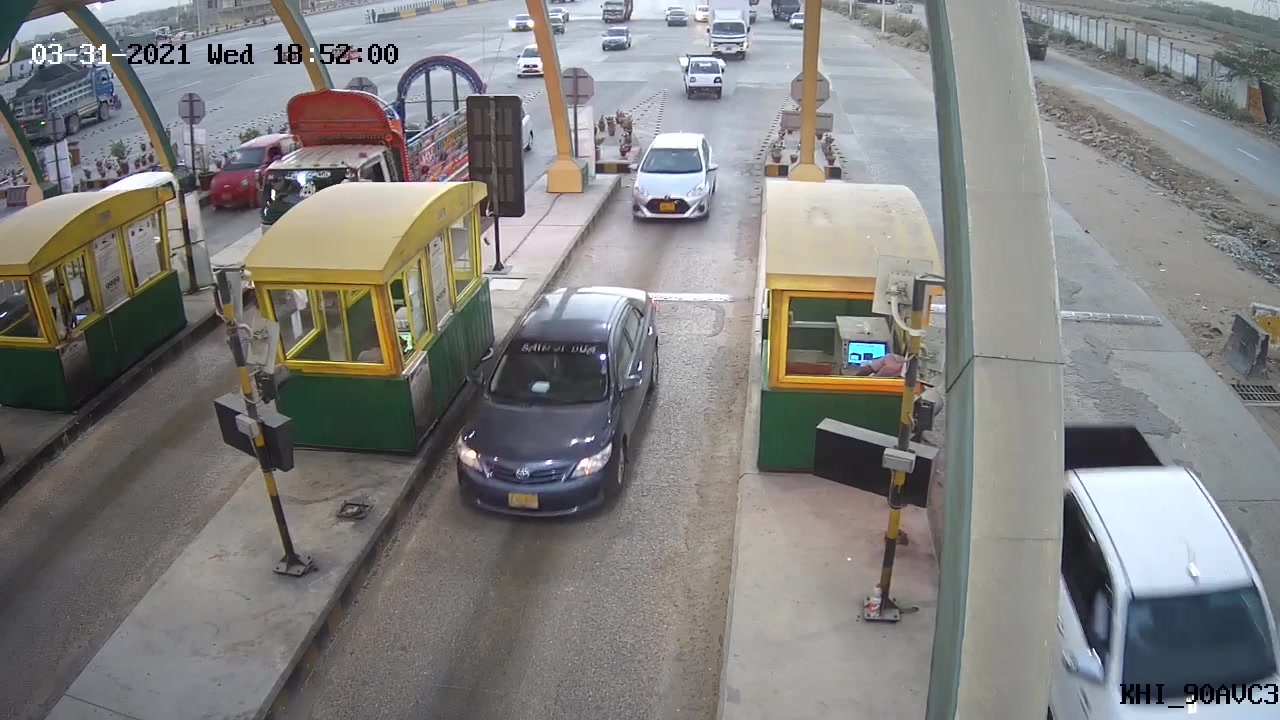F1: (456, 286, 663, 525), (627, 129, 722, 222)
